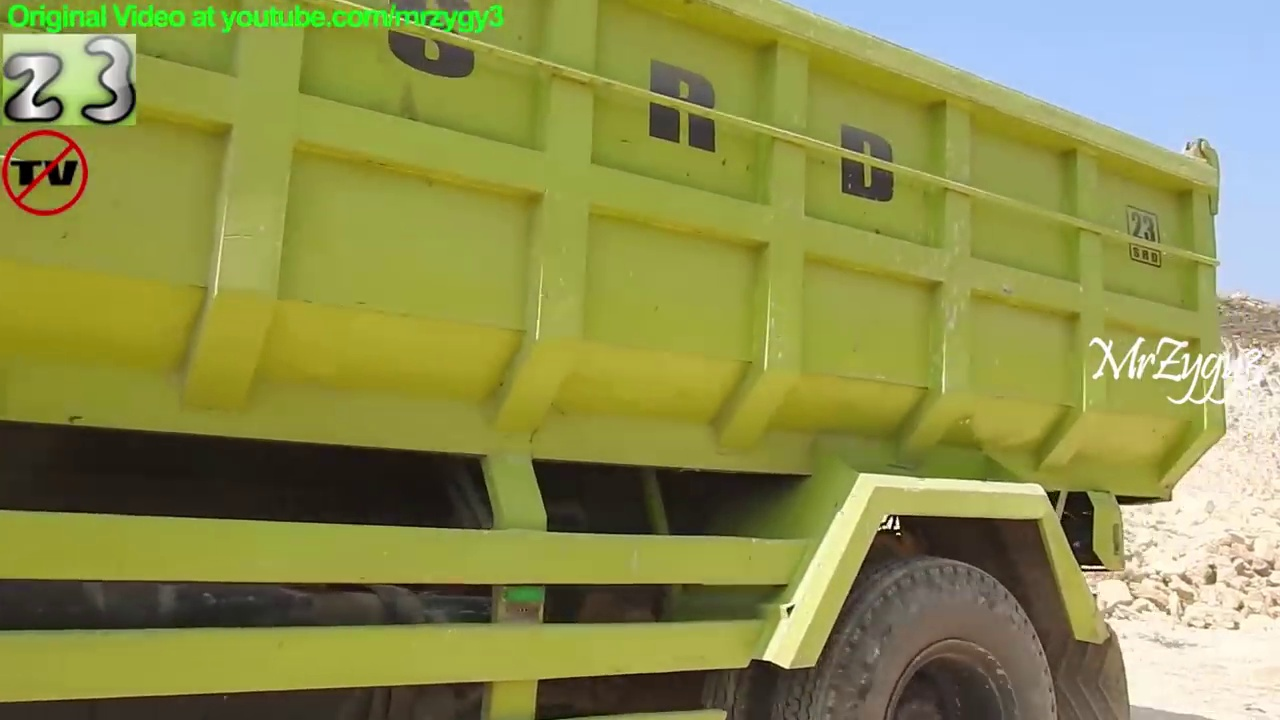truck: (1, 1, 1231, 720)
